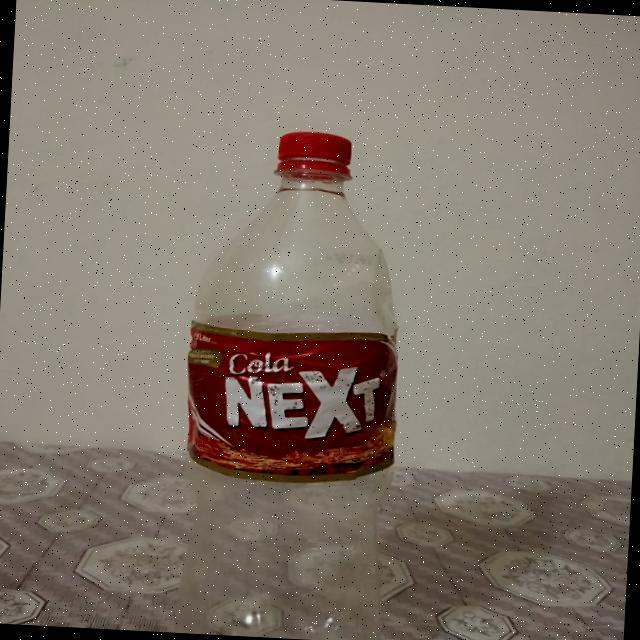bottle: (181, 132, 405, 640)
cap: (275, 132, 349, 178)
label: (184, 326, 396, 486)
